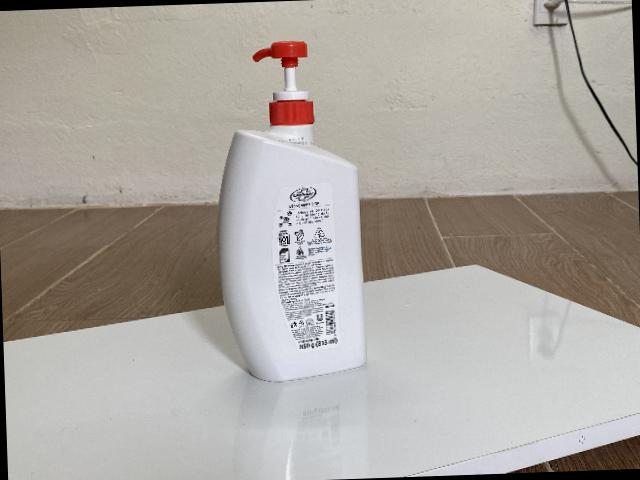life-buoy: (219, 39, 369, 383)
